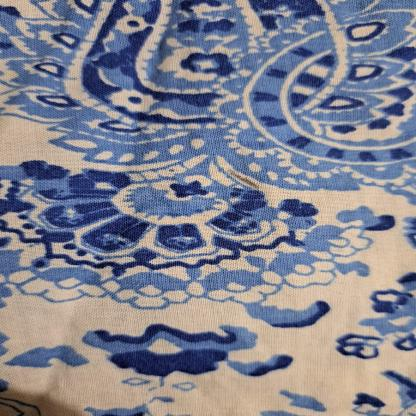spot: (228, 168, 264, 190)
